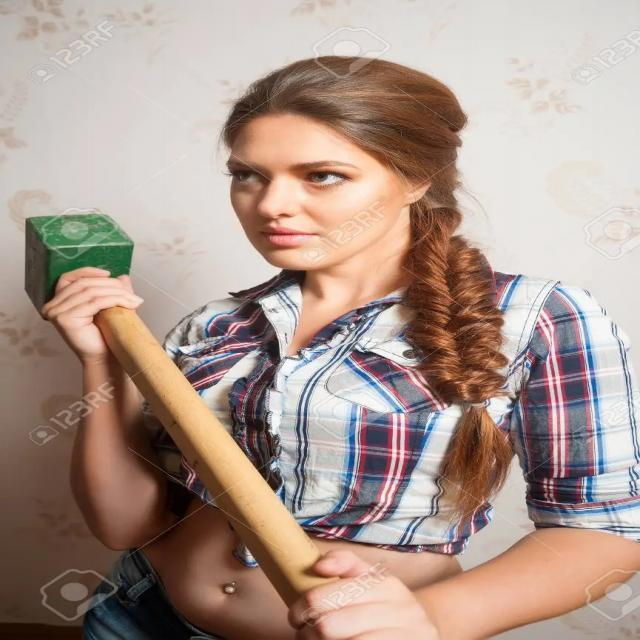hammer: (12, 206, 378, 640)
